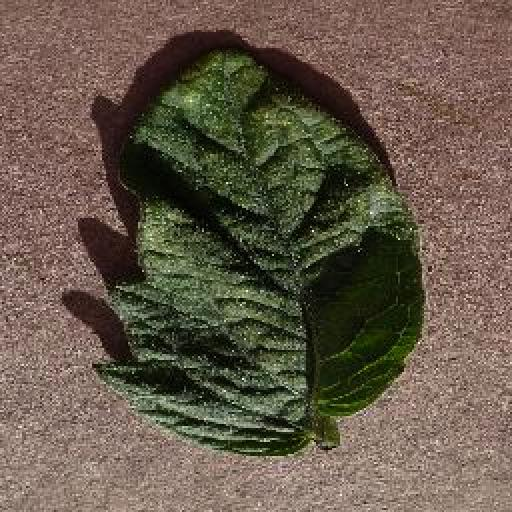disease_tomato: (96, 42, 424, 458)
